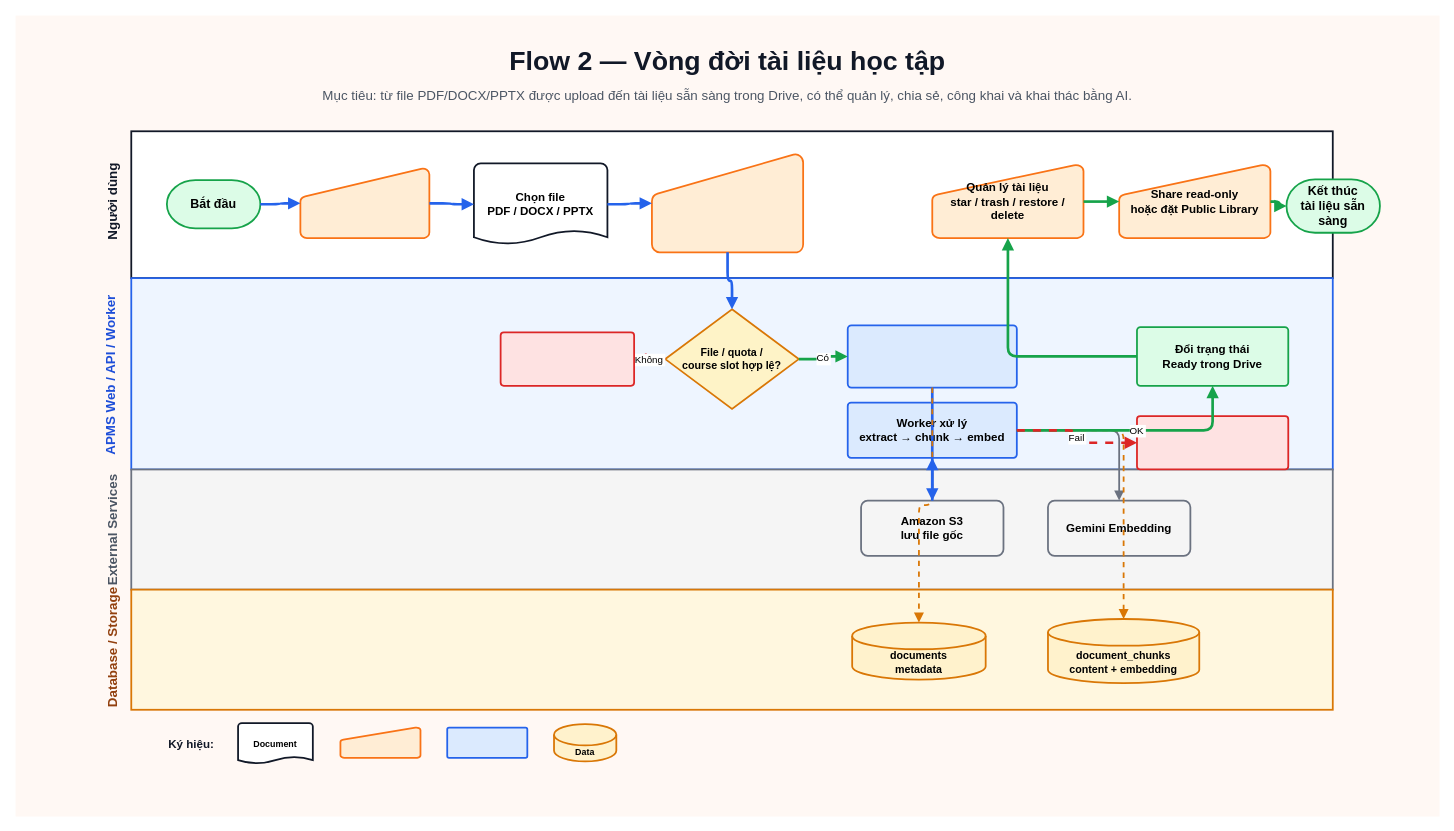
The diagram is 1454 pixels wide and 831 high, and some of its shapes have lost their labels. The box of each missing label's shape, as (x1, y1, x2, y2) in pixels:
Extract failed lưu trạng thái lỗi: (1136, 415, 1289, 470)
Nhập metadata courseSlotId title / folder / visibility: (651, 153, 804, 253)
Process: (446, 726, 528, 758)
Sinh viên mở Drive của tôi: (299, 167, 430, 239)
Tạo presigned upload và document metadata: (846, 324, 1017, 388)
Từ chối upload hiển thị lỗi: (499, 331, 635, 386)
User action: (339, 726, 421, 758)
